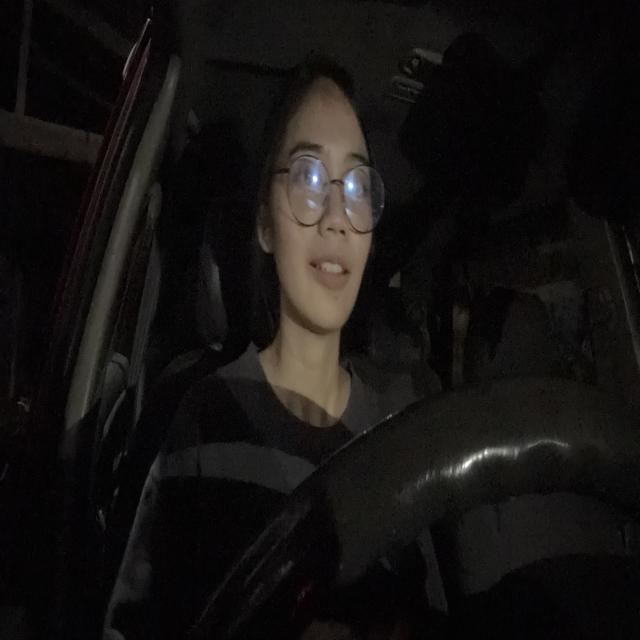open: (288, 142, 326, 200), (344, 145, 370, 210)
